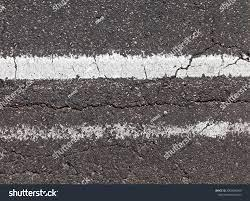faded_road_lines: (0, 118, 249, 152), (0, 53, 250, 81)
